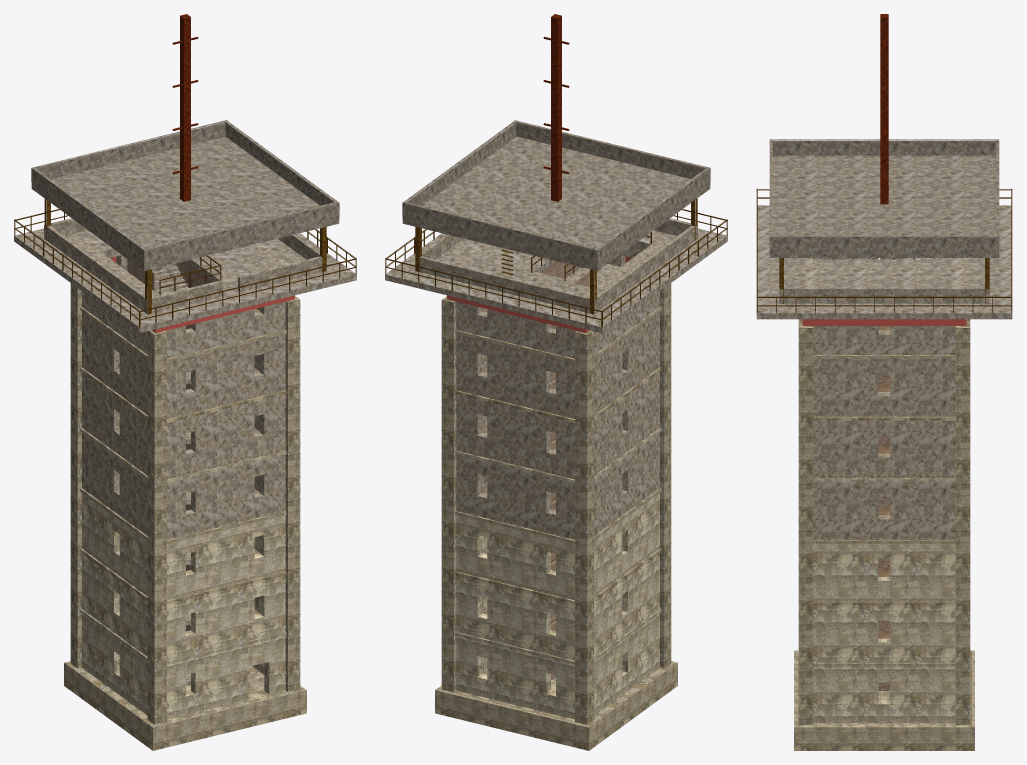
The model's file is bw-tower.panes-v1.lod0.glb.
3 renders of one model, left to right at view 1: azimuth 30°, elevation 25°; view 2: azimuth 150°, elevation 25°; view 3: azimuth 270°, elevation 25°, orthographic.
Parts seen in each view (by area): view 1: bw-tower; view 2: bw-tower; view 3: bw-tower.
Boxes of the visible parts, x1,y1,x2,y2 form: bw-tower: (14, 14, 356, 750); bw-tower: (385, 14, 727, 750); bw-tower: (756, 14, 1012, 750).
Size of the model in its own units: 15.83 by 47.5 by 15.83.
6 materials, 5 textured.
